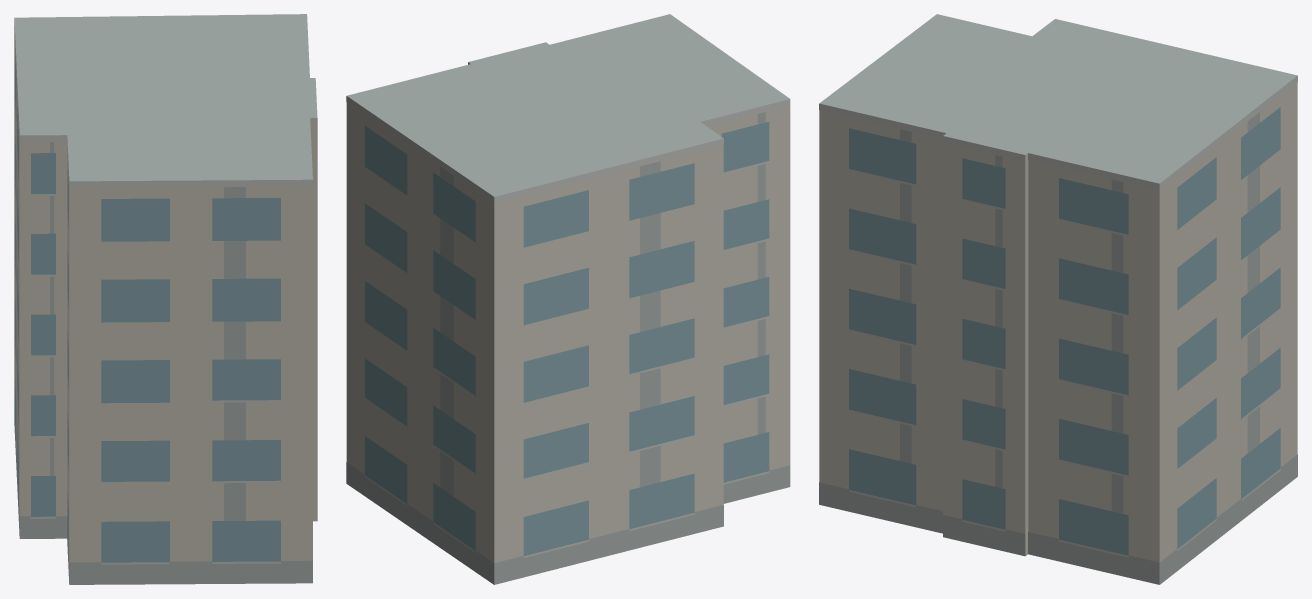
Rendered from survey-upis-32879969.glb.
3 views of the same model, side by side, from view 1: azimuth 30°, elevation 25°; view 2: azimuth 150°, elevation 25°; view 3: azimuth 270°, elevation 25° (orthographic). The views are drawn at different scales.
Parts seen in each view (by area): view 1: survey-upis-32879969.tmp; view 2: survey-upis-32879969.tmp; view 3: survey-upis-32879969.tmp.
Part boxes in pixels (x1=…): survey-upis-32879969.tmp: x1=14, y1=14, x2=317, y2=584; survey-upis-32879969.tmp: x1=346, y1=14, x2=790, y2=584; survey-upis-32879969.tmp: x1=819, y1=14, x2=1297, y2=584.
Bounding box in the file's own units: 12.98 × 14.3 × 15.47.
